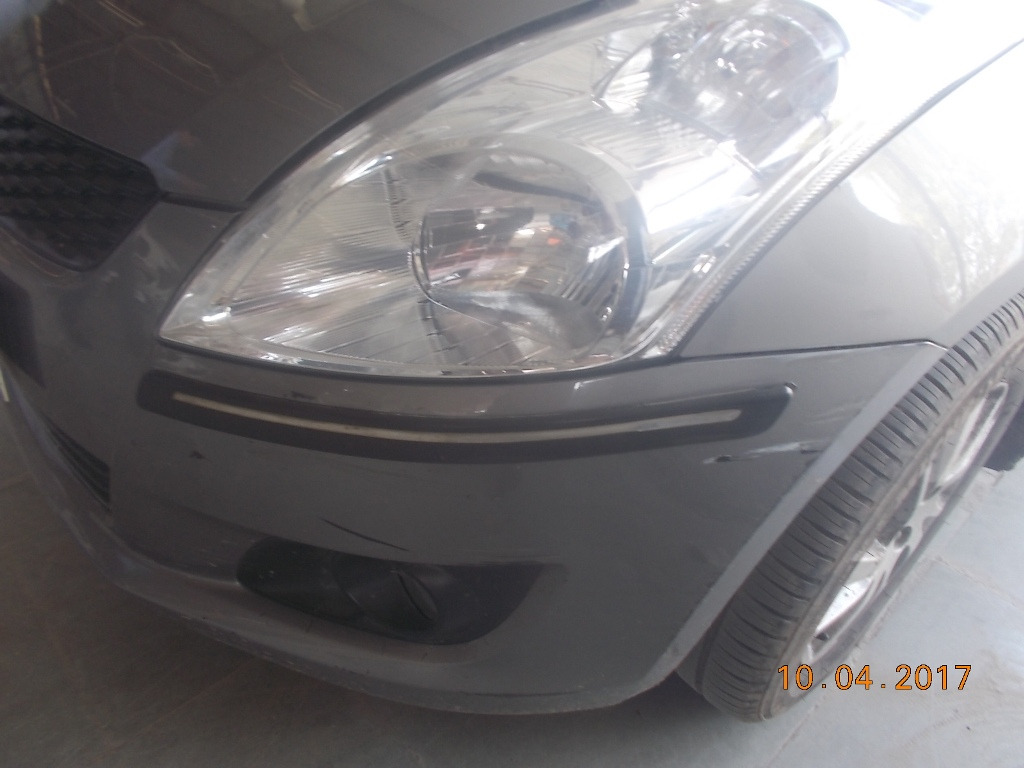Scratch_or_spot: (321, 517, 410, 554), (704, 442, 798, 477)
